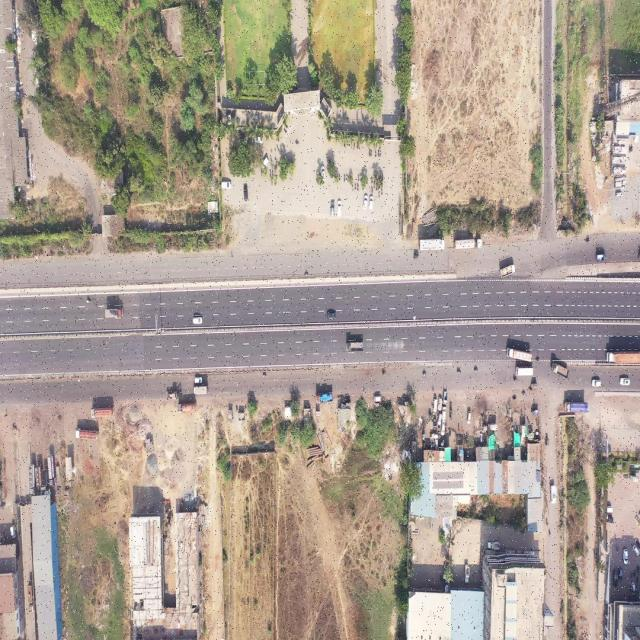3W: (488, 423, 497, 430), (532, 409, 539, 415), (546, 437, 550, 447), (531, 382, 537, 387), (414, 255, 419, 259)
Bus: (516, 367, 534, 376)
Cars: (591, 378, 601, 388), (619, 377, 630, 386), (337, 200, 342, 217), (192, 316, 202, 324), (441, 420, 446, 436), (328, 312, 337, 320), (10, 526, 16, 538), (363, 196, 368, 210), (438, 397, 443, 411), (369, 196, 374, 209), (222, 182, 232, 188), (244, 187, 248, 201), (331, 200, 334, 218), (467, 411, 471, 424), (442, 407, 446, 420), (434, 398, 437, 412), (374, 396, 381, 402), (194, 378, 202, 383)
LCV: (552, 362, 568, 378), (500, 265, 515, 278), (105, 308, 124, 318), (347, 343, 363, 352), (194, 386, 208, 394), (596, 253, 606, 260), (443, 391, 448, 404)
M2W: (628, 144, 632, 153), (86, 298, 91, 304), (585, 238, 590, 243), (296, 140, 300, 145), (304, 272, 308, 277), (382, 371, 386, 376), (338, 176, 341, 182), (379, 150, 382, 156), (358, 174, 360, 182), (371, 176, 373, 184), (513, 378, 517, 382), (457, 370, 461, 374), (523, 392, 526, 397), (263, 373, 266, 378), (378, 150, 380, 157), (371, 186, 373, 193), (352, 186, 354, 192), (370, 150, 372, 156), (536, 359, 540, 362), (474, 369, 478, 372), (513, 395, 516, 399), (423, 372, 426, 376), (375, 150, 376, 158), (344, 175, 345, 182), (378, 192, 379, 199), (344, 142, 345, 148), (346, 176, 347, 182), (354, 142, 355, 148), (355, 184, 356, 190), (369, 150, 370, 156), (376, 186, 377, 191), (349, 143, 350, 147), (358, 185, 358, 191), (382, 188, 382, 196)
MAV: (606, 351, 640, 364), (506, 347, 532, 362), (47, 455, 57, 487), (75, 428, 98, 440), (419, 239, 444, 250), (90, 407, 112, 419), (454, 239, 482, 248), (27, 586, 34, 613), (28, 464, 34, 494), (177, 403, 196, 412), (465, 564, 470, 583)
Truck: (564, 401, 588, 413), (316, 392, 332, 403)
